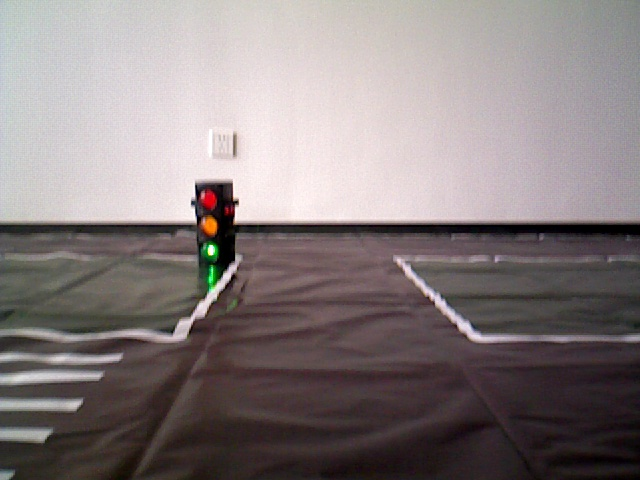green: (196, 184, 232, 263)
